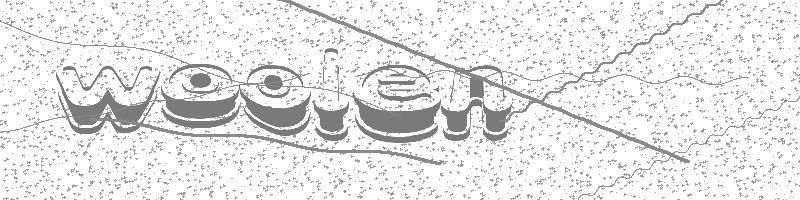e: (354, 59, 441, 145)
l: (315, 46, 351, 140)
n: (444, 62, 510, 140)
o: (238, 64, 313, 136), (163, 61, 240, 128)
w: (52, 61, 159, 137)
